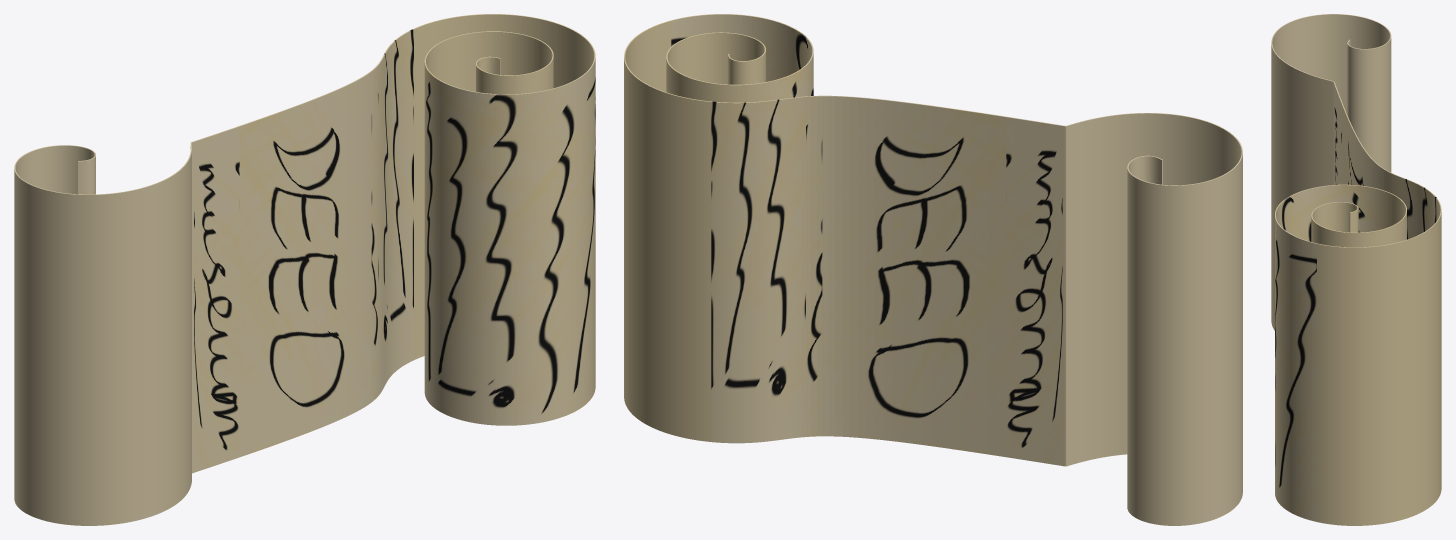
Rendered from MuseumDeed.fbx.
3 views of the same model, side by side, from view 1: azimuth 30°, elevation 25°; view 2: azimuth 150°, elevation 25°; view 3: azimuth 270°, elevation 25° (orthographic). The views are drawn at different scales.
Visible parts, largest first — view 1: NurbsPath; view 2: NurbsPath; view 3: NurbsPath.
Part boxes in pixels (x1,y1,x2,y2): NurbsPath: (14,14,595,525); NurbsPath: (624,14,1242,525); NurbsPath: (1271,14,1441,525).
Bounding box in the file's own units: 539 × 304 × 166.
